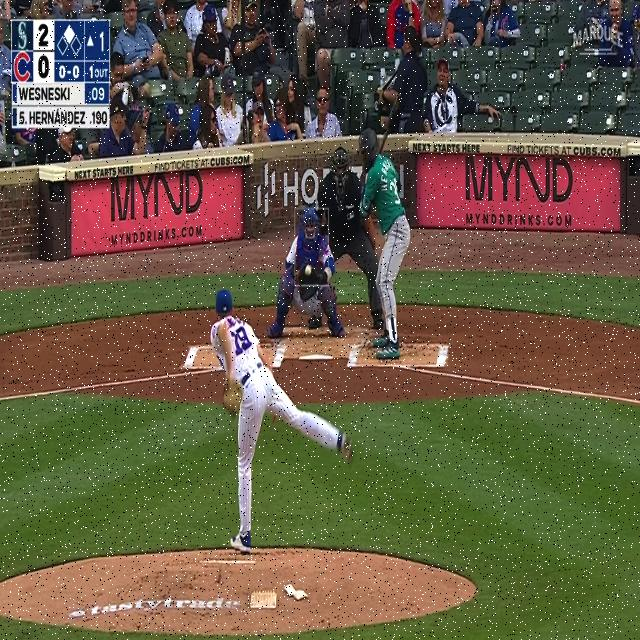baseball: (305, 264, 312, 275)
